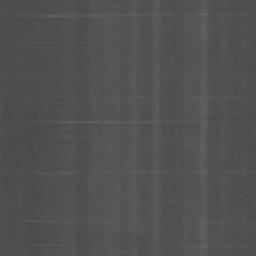Waist folding: (18, 12, 153, 19), (34, 119, 170, 125), (23, 219, 71, 224), (45, 170, 77, 176), (115, 95, 148, 100), (32, 242, 53, 247)
